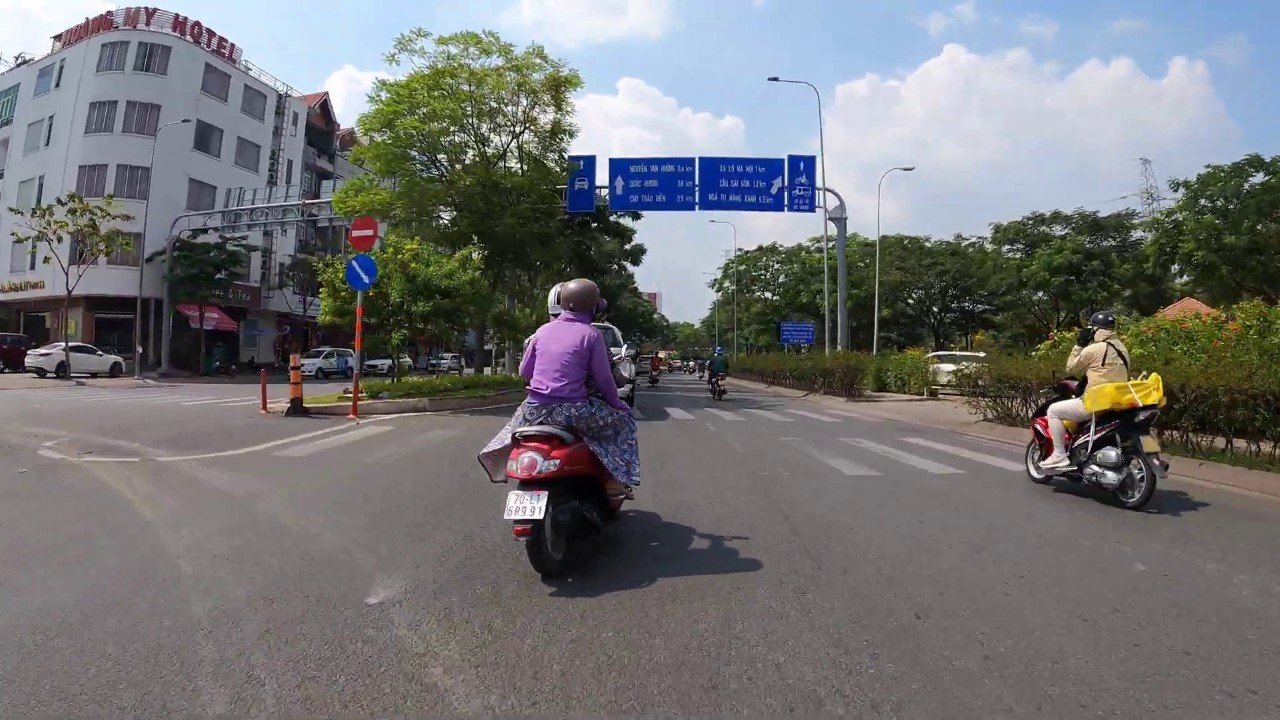cam_nguoc_chieu: (348, 215, 379, 251)
huong_phai_di_vong: (345, 254, 377, 290)
